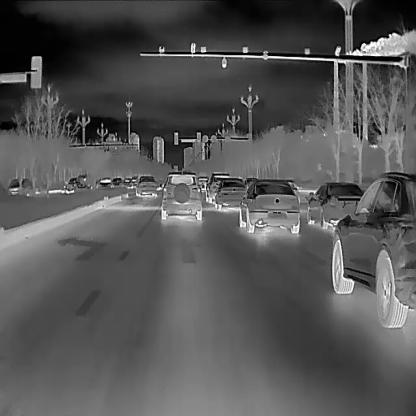car: (331, 171, 415, 328), (238, 178, 300, 233), (307, 181, 365, 230), (159, 169, 202, 219), (213, 175, 247, 210), (203, 171, 231, 202), (6, 176, 32, 197), (135, 174, 157, 197), (96, 175, 115, 191), (197, 174, 210, 190), (111, 174, 122, 190)
